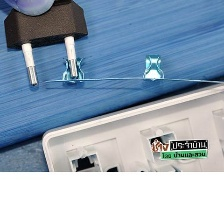three_eye_plug: (37, 77, 223, 181)
